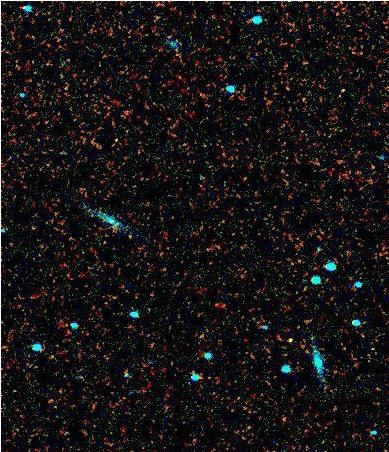star: (275, 325, 305, 355)
